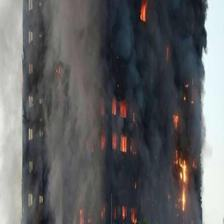fire: (174, 152, 200, 219), (66, 203, 139, 224), (54, 53, 78, 116), (169, 70, 184, 134), (129, 4, 165, 25), (111, 131, 135, 155), (112, 95, 129, 120)
